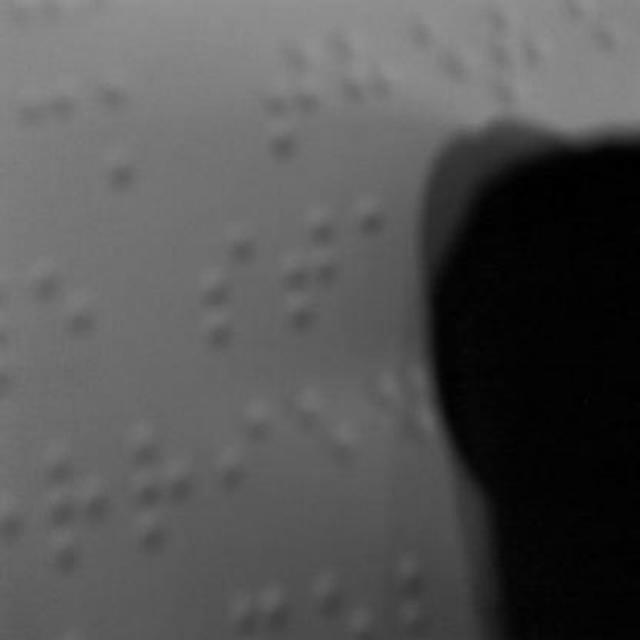braiile: (209, 388, 279, 538), (42, 427, 112, 571), (126, 411, 198, 549), (336, 22, 408, 158), (292, 373, 362, 511), (29, 250, 96, 380), (98, 66, 170, 186), (264, 32, 328, 164), (198, 223, 260, 353), (284, 211, 346, 335), (16, 68, 82, 184)
